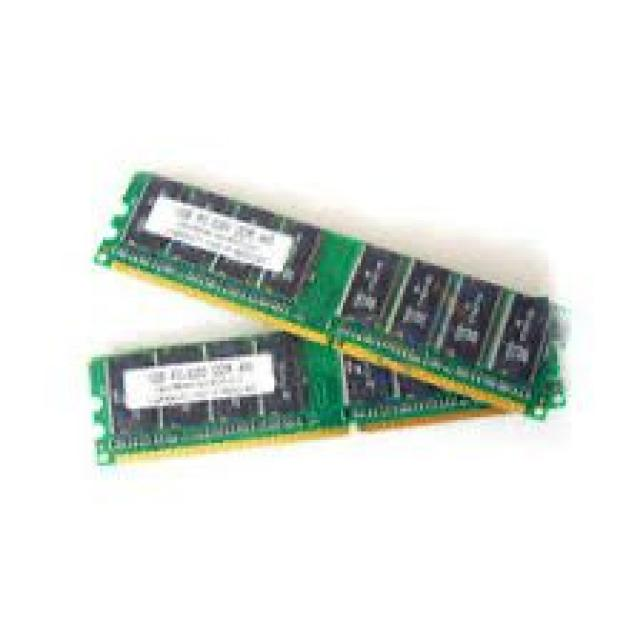Ram: (32, 46, 580, 533)
